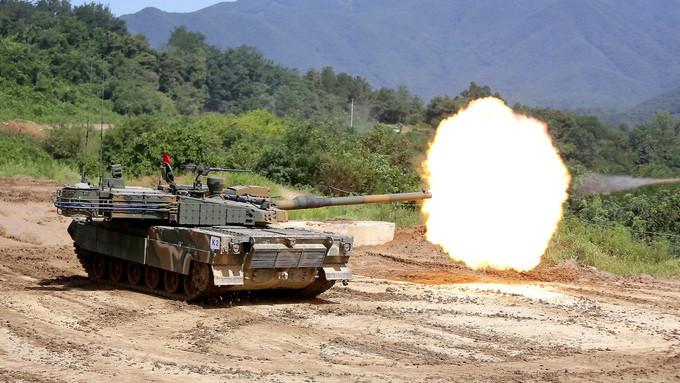tank: (56, 176, 433, 301)
